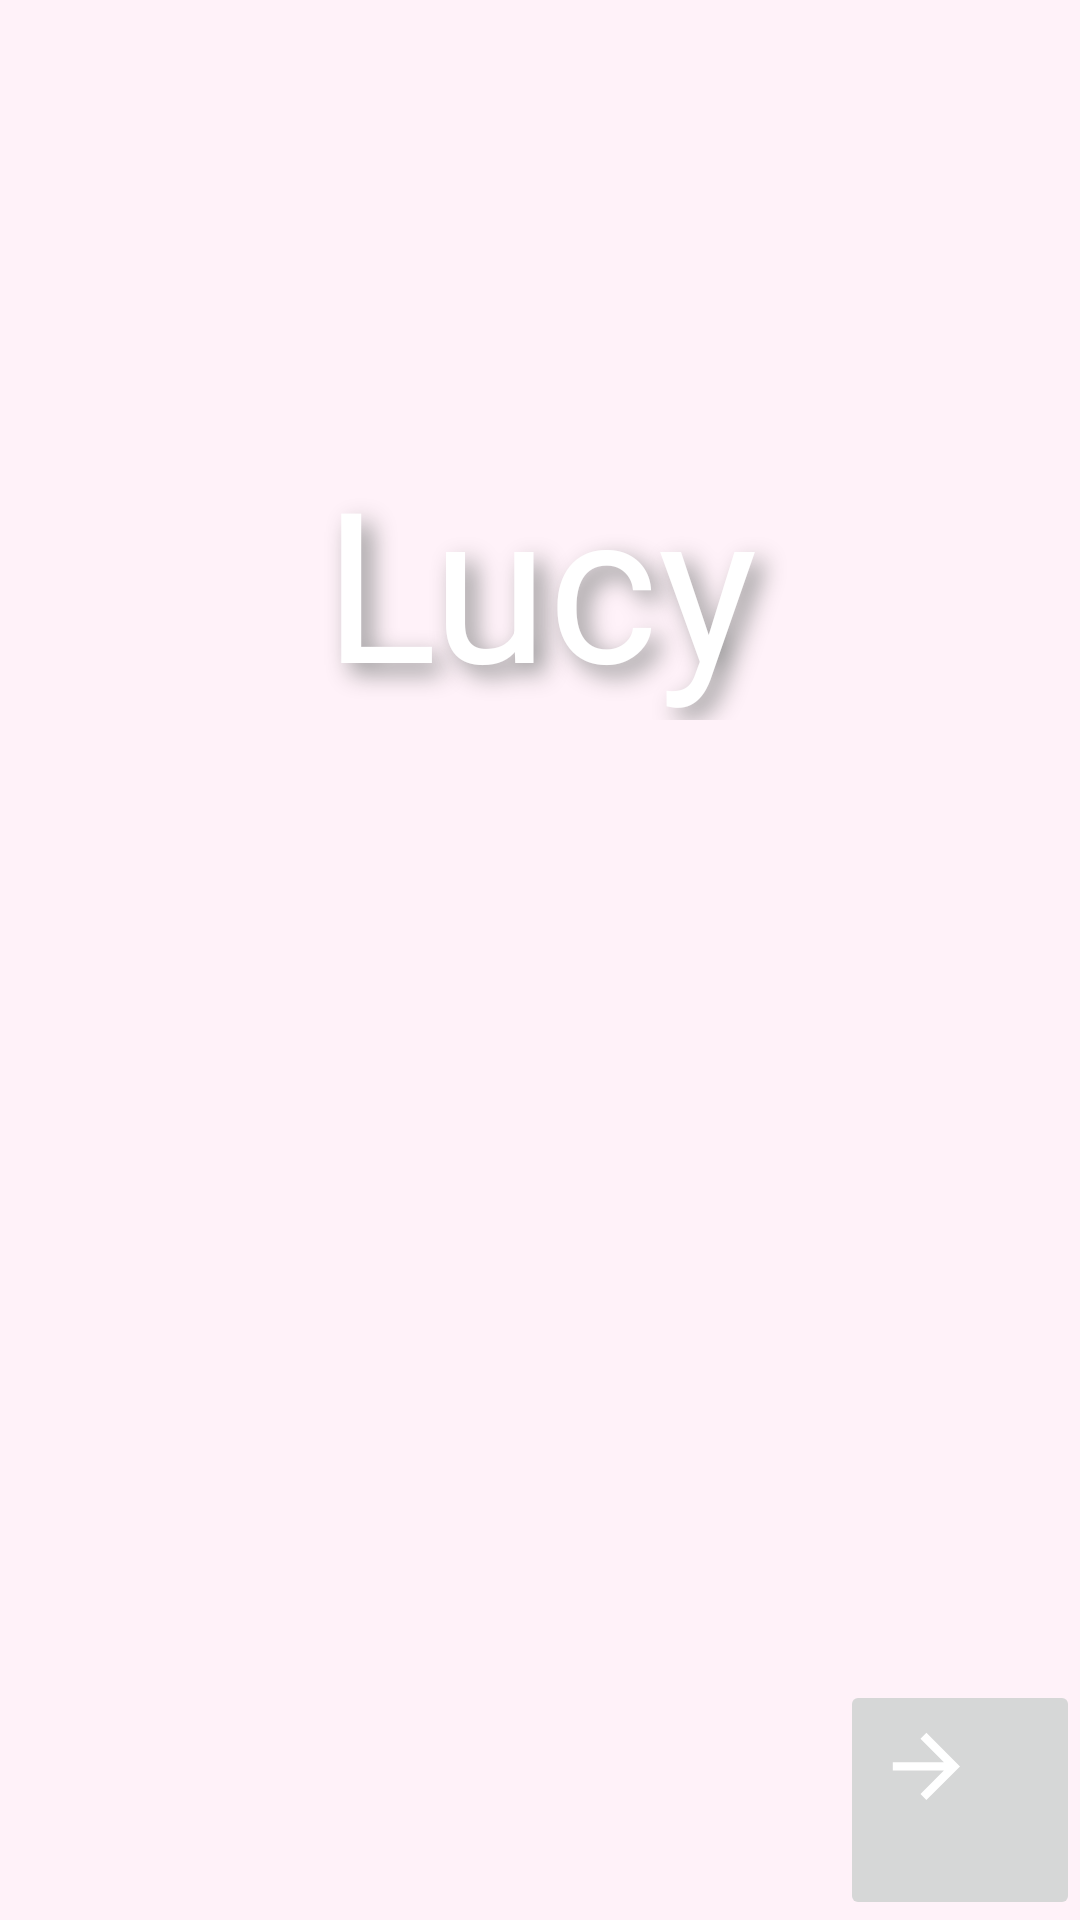

Icon bounding boxes for this 1080 x 1920 phone screenshot, format (x1, y1, x2, y2):
arrow forward: (852, 1698, 1068, 1902)
